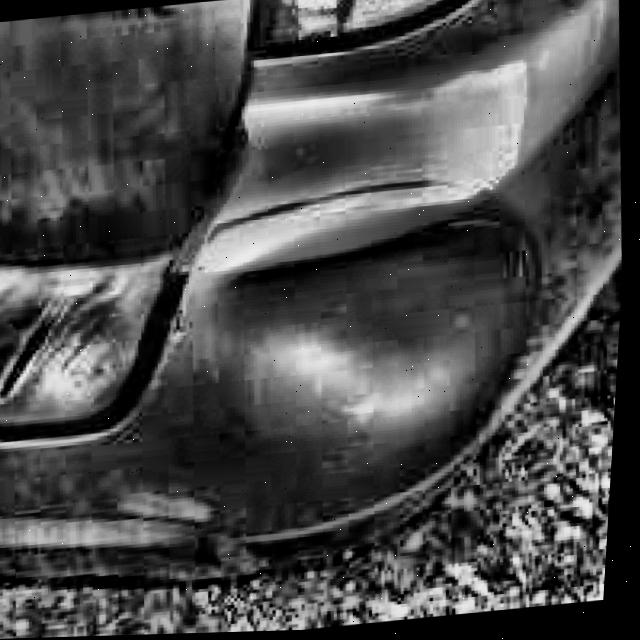bumper_dent: (199, 200, 555, 480)
